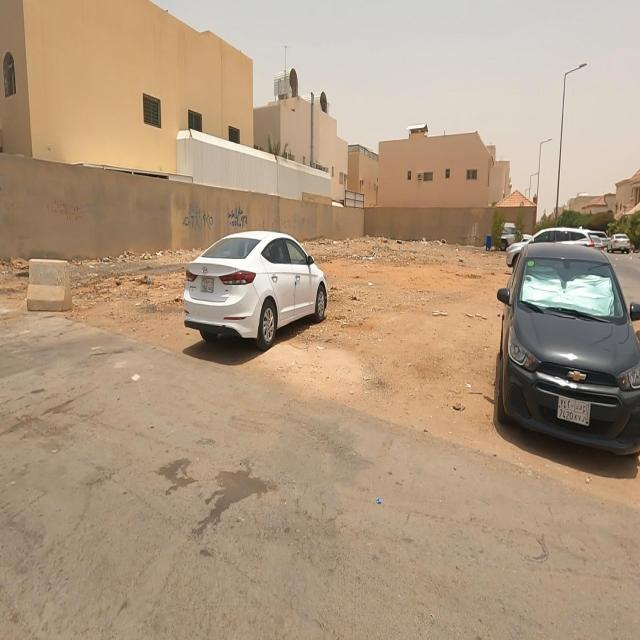Graffiti: (48, 200, 88, 225), (185, 204, 215, 232), (228, 208, 249, 229)
